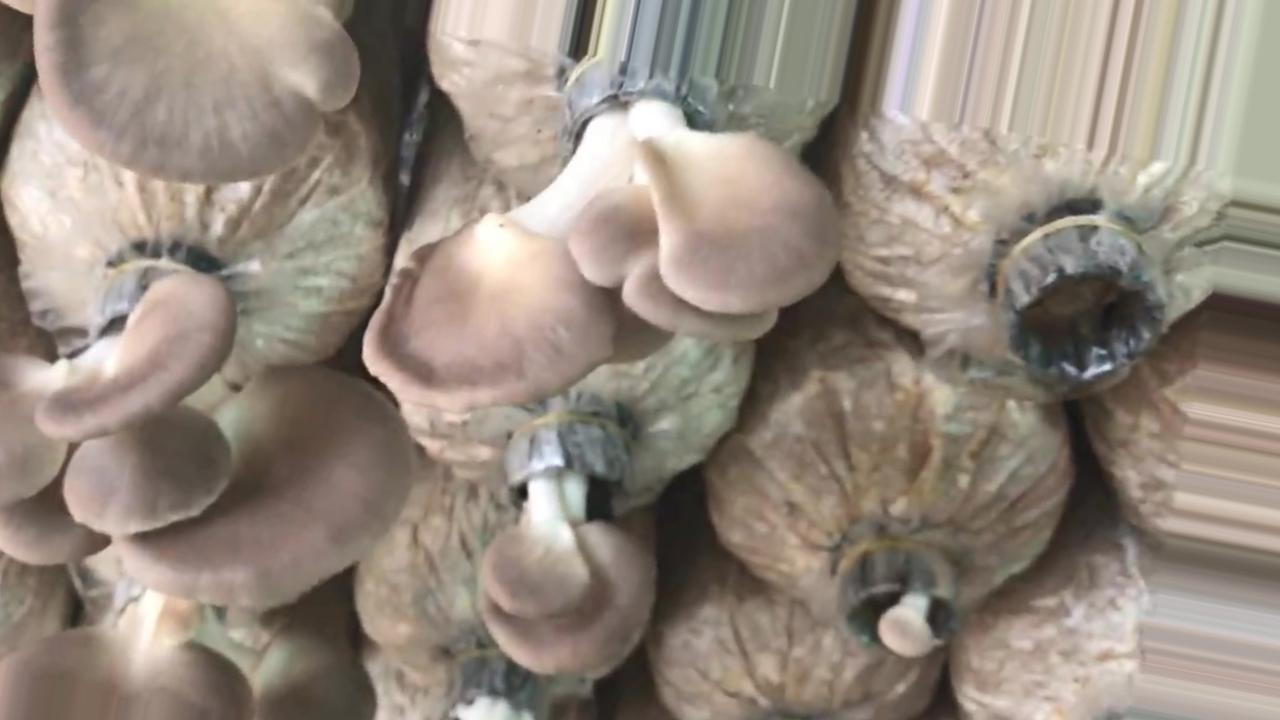nam: (360, 58, 840, 409), (1, 266, 413, 608), (34, 1, 355, 183), (1, 595, 378, 718), (474, 420, 651, 675), (838, 555, 966, 654)
